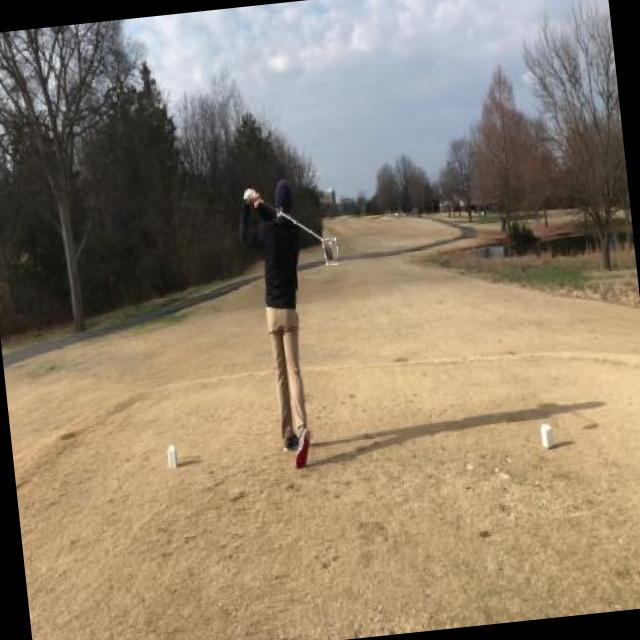club head: (322, 238, 338, 265)
